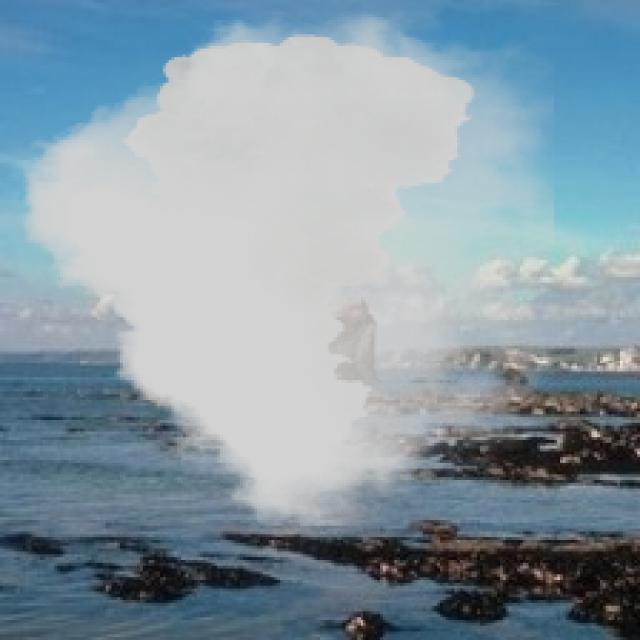smoke: (23, 11, 554, 526)
